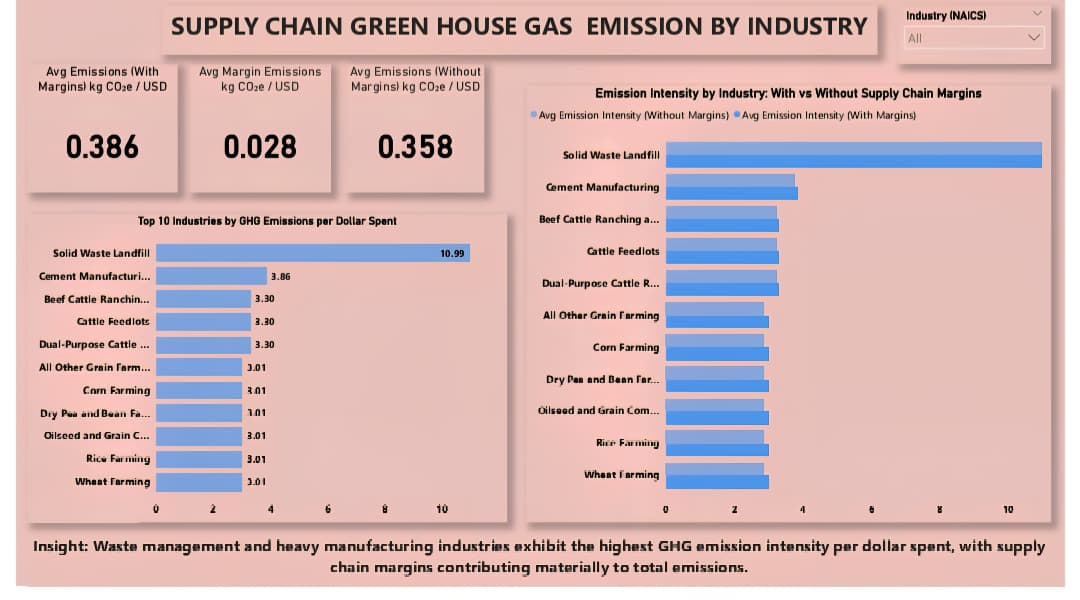

The dashboard page shown, as its layout file describes it:
{"tool":"powerbi","page":{"name":"Page 1","canvas":[1600,900],"ordinal":0},"visuals":[{"type":"textbox","box":[223.2,14.6,1092.1,75],"z":0},{"type":"clusteredBarChart","title":"Top 10 Industries by GHG Emissions per Dollar Spent","fields":{"Category":["Supply Chain GHG Emission Factor.2017 NAICS Title"],"Y":["Supply Chain GHG Emission Factor.Avg Emission Intensity (With Margins)"]},"box":[18.3,332.9,731.7,470.1],"z":1000},{"type":"clusteredBarChart","title":"Emission Intensity by Industry: With vs Without Supply Chain Margins","fields":{"Category":["Supply Chain GHG Emission Factor.2017 NAICS Title"],"Y":["Supply Chain GHG Emission Factor.Avg Emission Intensity (Without Margins)","Supply Chain GHG Emission Factor.Avg Emission Intensity (With Margins)"]},"box":[779.3,137.2,801.2,665.9],"z":2000},{"type":"card","title":"Avg Emissions (With Margins) kg CO₂e / USD","fields":{"Values":["Supply Chain GHG Emission Factor.Avg Emission Intensity (With Margins)"]},"box":[18.3,104.3,228.7,195.7],"z":3000},{"type":"card","title":"Avg Emissions (Without Margins)  kg CO₂e / USD","fields":{"Values":["Supply Chain GHG Emission Factor.Avg Emission Intensity (Without Margins)"]},"box":[504.9,104.3,210.4,195.7],"z":4000},{"type":"card","title":"Avg Margin Emissions    kg CO₂e / USD","fields":{"Values":["Supply Chain GHG Emission Factor.Avg Margin Emissions"]},"box":[265.2,104.3,215.9,195.7],"z":5000},{"type":"slicer","title":"Industry (NAICS)","fields":{"Values":["Supply Chain GHG Emission Factor.2017 NAICS Title"]},"box":[1346.3,14.6,234.1,89.6],"z":6000},{"type":"textbox","box":[18.3,815.9,1562.2,84.1],"z":7000}]}

Visuals, with their boxes in screenshot pixels (x1, y1, x2, y2), scaled from the page's 1600x900 canvas onto the 1080x600 screenshot:
textbox: locate(151, 10, 888, 60)
"Top 10 Industries by GHG Emissions per Dollar Spent" clusteredBarChart: locate(12, 222, 506, 535)
"Emission Intensity by Industry: With vs Without Supply Chain Margins" clusteredBarChart: locate(526, 91, 1067, 535)
"Avg Emissions (With Margins) kg CO₂e / USD" card: locate(12, 70, 167, 200)
"Avg Emissions (Without Margins)  kg CO₂e / USD" card: locate(341, 70, 483, 200)
"Avg Margin Emissions    kg CO₂e / USD" card: locate(179, 70, 325, 200)
"Industry (NAICS)" slicer: locate(909, 10, 1067, 69)
textbox: locate(12, 544, 1067, 599)
